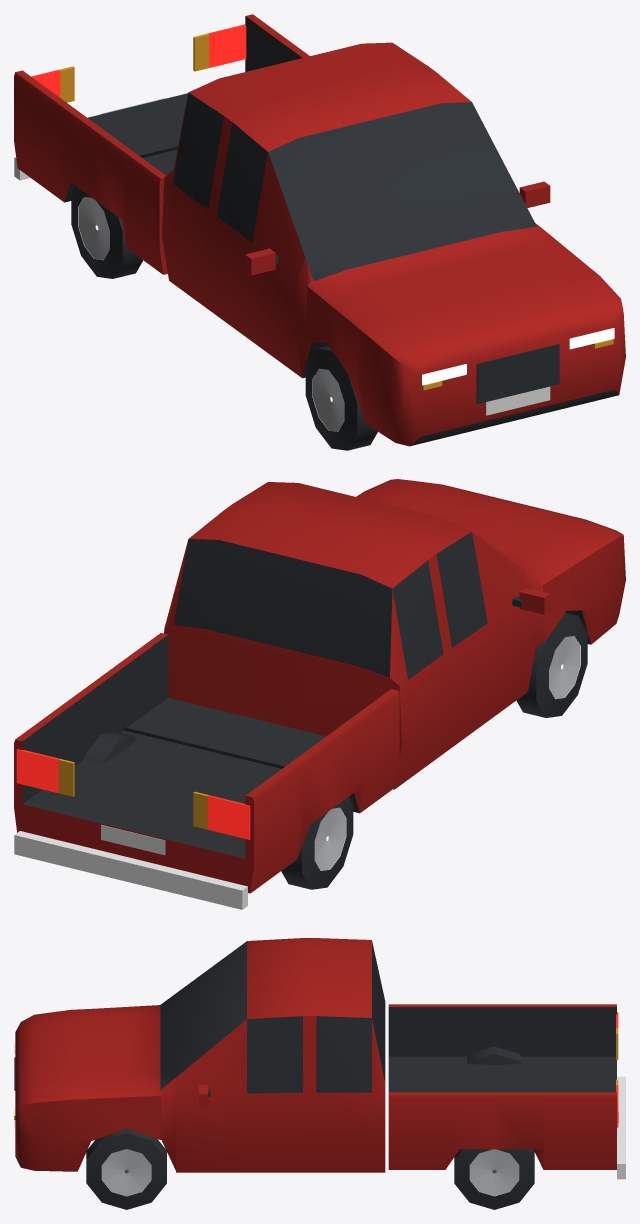
The model's file is pickup_red_lod1.glb.
The picture shows the model from 3 angles, top to bottom: view 1: azimuth 30°, elevation 25°; view 2: azimuth 150°, elevation 25°; view 3: azimuth 270°, elevation 25°; orthographic projection. The views are drawn at different scales.
Parts seen in each view (by area): view 1: pickup_red_lod1; view 2: pickup_red_lod1; view 3: pickup_red_lod1.
Part boxes in pixels (x1,y1,x2,y2): pickup_red_lod1: (14, 14, 625, 450); pickup_red_lod1: (14, 479, 625, 909); pickup_red_lod1: (14, 938, 625, 1209).
Bounding box in the file's own units: 0.1215 × 0.096 × 0.2746.
